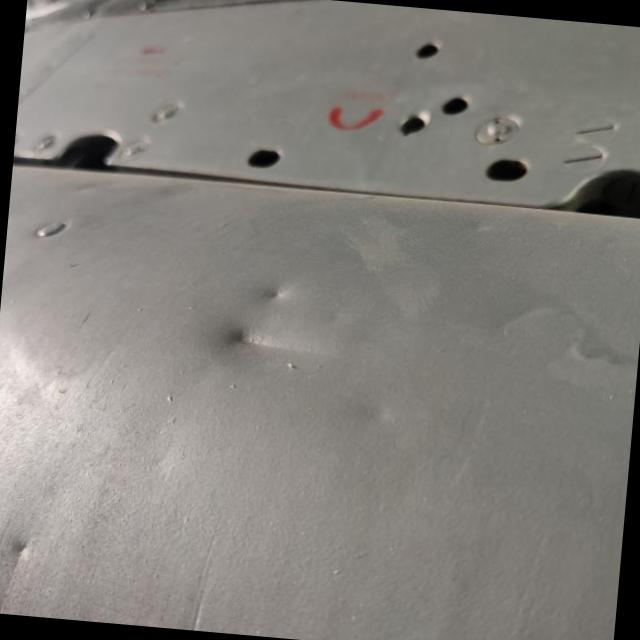Dent: (227, 301, 341, 370), (252, 279, 300, 321)
